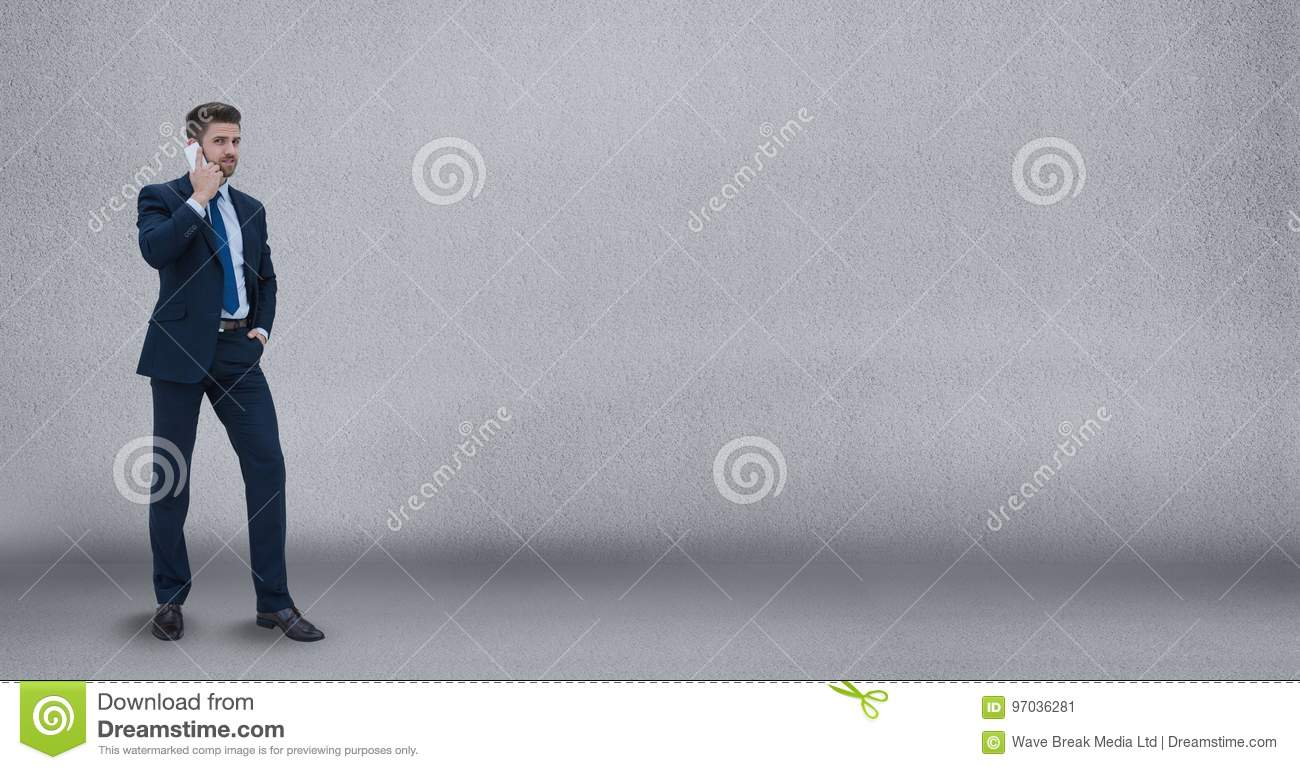phone: (186, 143, 208, 177)
talk: (184, 129, 241, 202)
